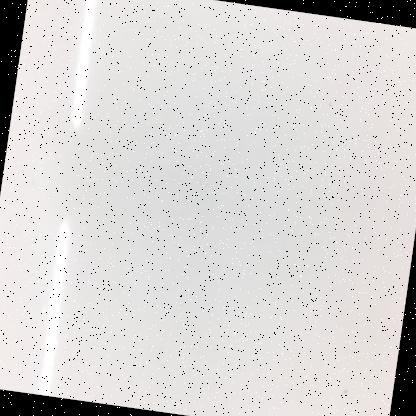Nocrack: (10, 0, 412, 409)
